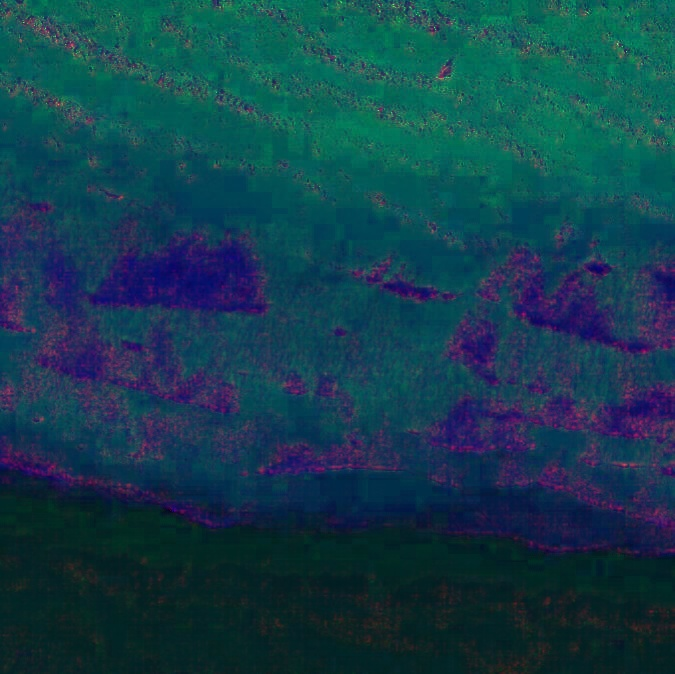rip_current: (244, 215, 469, 513)
